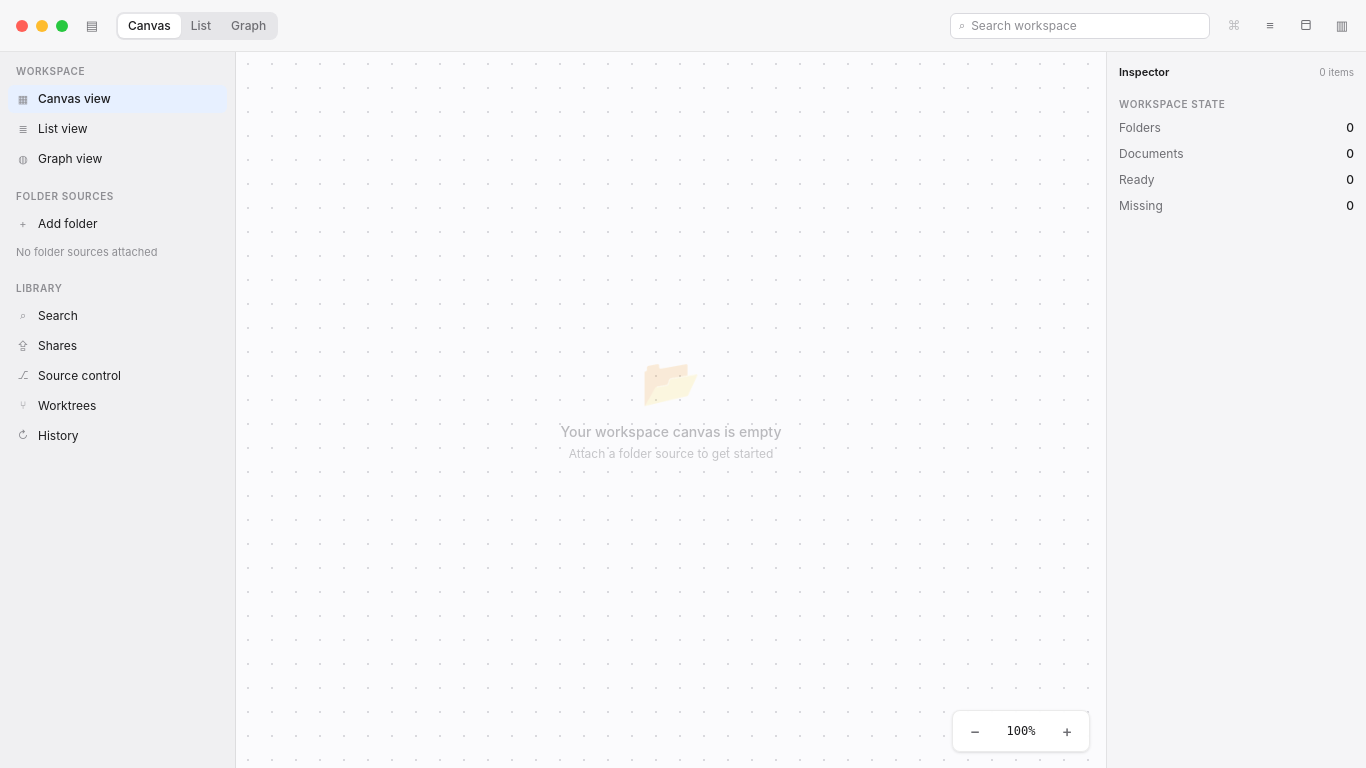
UI-01 shell structure › drives the single view seam from the toolbar and from the sidebar
Click the radio button with test id "view-list-btn": (201, 26) x1=181 y1=14 x2=221 y2=38
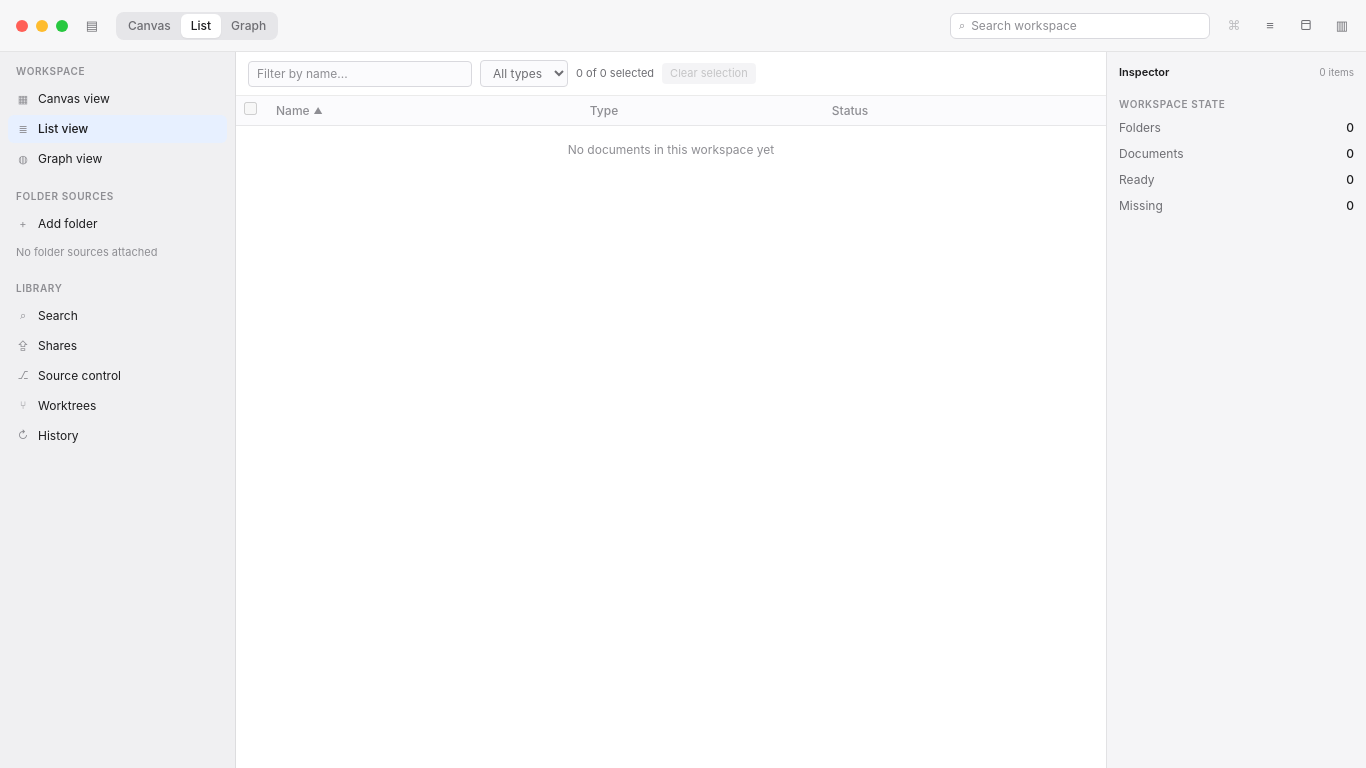
Now the element named "Document list" is shown, box x1=236 y1=52 x2=1106 y2=767
Click the button with test id "sidebar-view-graph": (118, 159) x1=8 y1=145 x2=227 y2=173
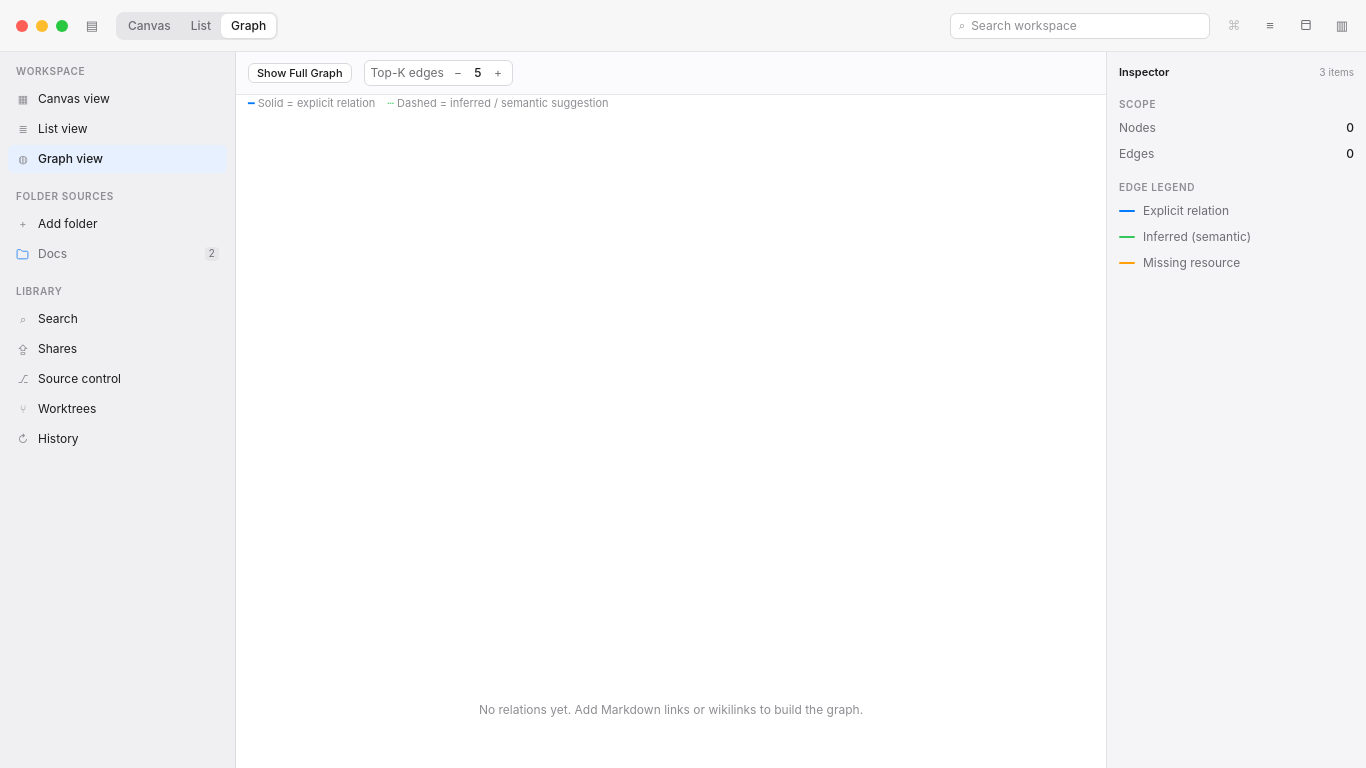
Now the element with test id "graph-view" is shown, box x1=236 y1=52 x2=1106 y2=767
